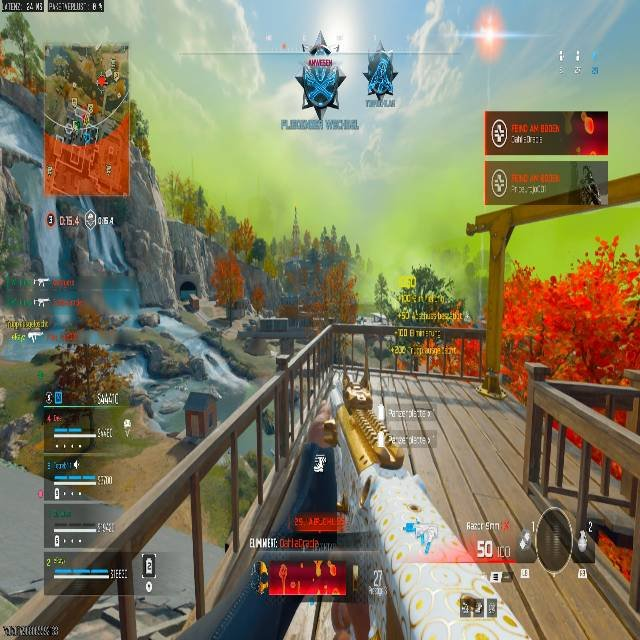player: (295, 42, 347, 119), (365, 56, 398, 103)
